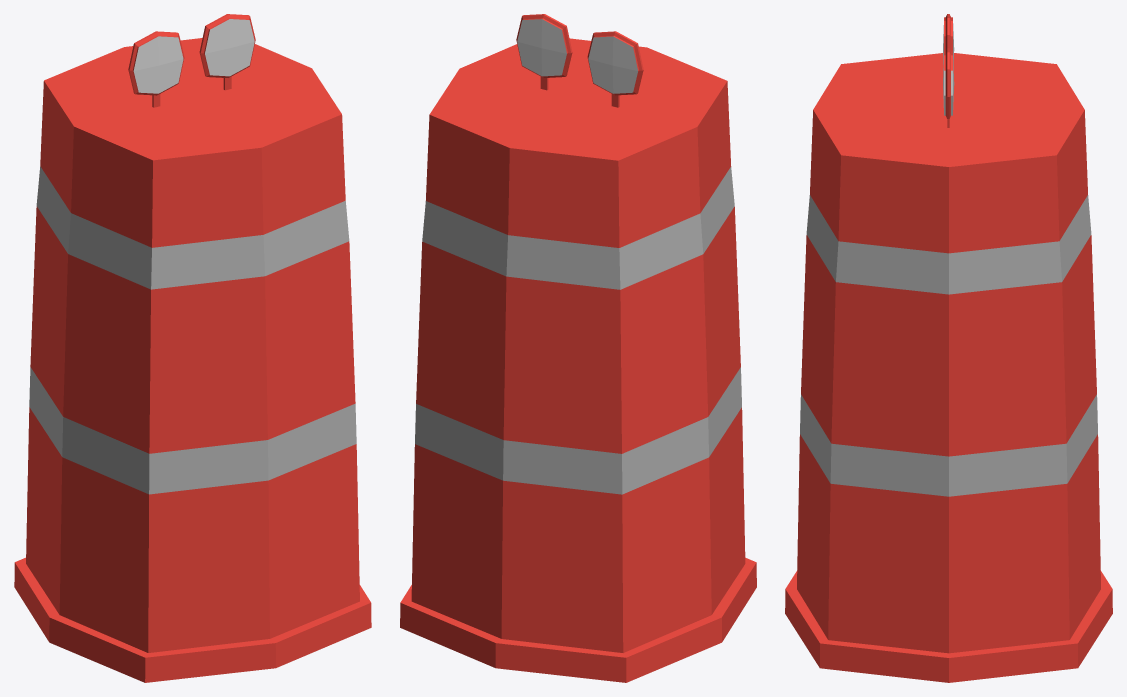
The model's file is Barrier.fbx.
The picture shows the model from 3 angles, left to right: view 1: azimuth 30°, elevation 25°; view 2: azimuth 150°, elevation 25°; view 3: azimuth 270°, elevation 25°; orthographic projection.
Visible parts, largest first — view 1: Barreira; view 2: Barreira; view 3: Barreira.
Boxes of the visible parts, x1=… form: Barreira: x1=14, y1=14, x2=371, y2=682; Barreira: x1=400, y1=14, x2=756, y2=682; Barreira: x1=785, y1=14, x2=1112, y2=682.
Bounding box in the file's own units: 0.6107 × 1.19 × 0.6107.
